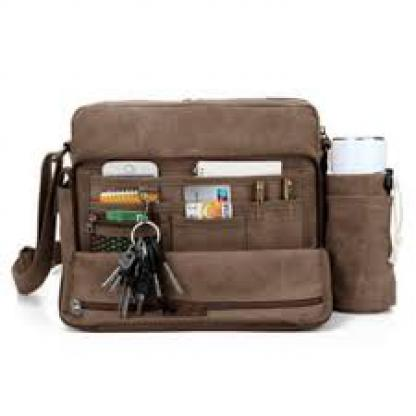morral: (2, 74, 407, 338)
